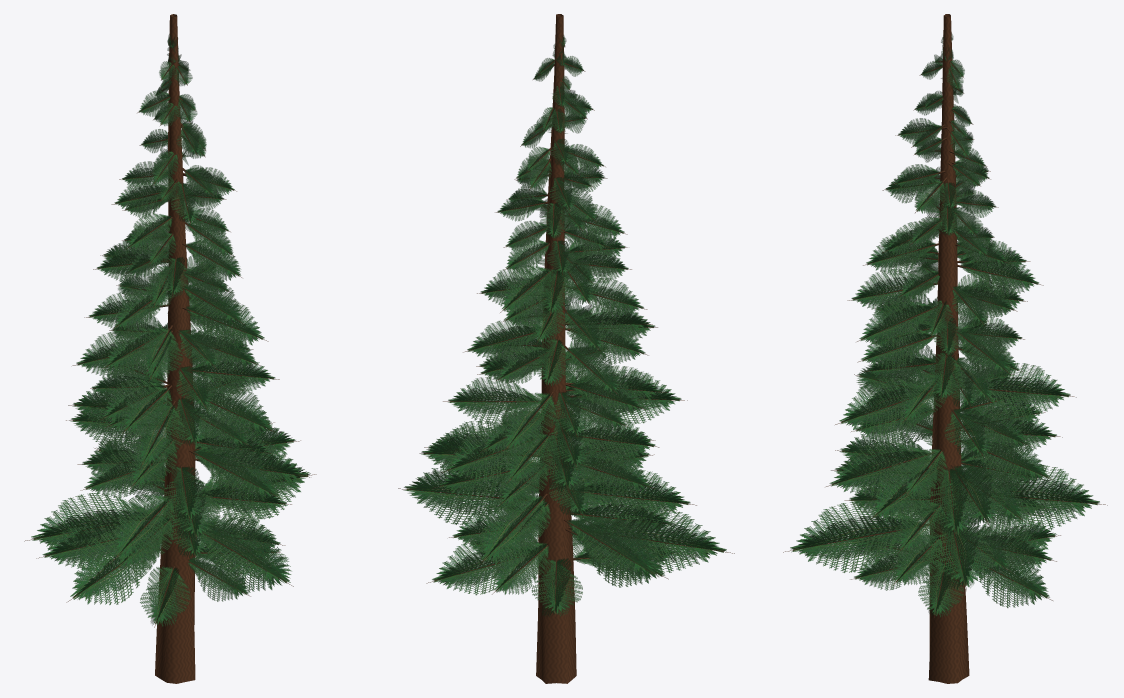
Rendered from pacific-redwood-wide.glb.
The picture shows the model from 3 angles, left to right: view 1: azimuth 30°, elevation 25°; view 2: azimuth 150°, elevation 25°; view 3: azimuth 270°, elevation 25°; orthographic projection.
Parts seen in each view (by area): view 1: Redwood needle cards, Redwood ridged bark; view 2: Redwood needle cards, Redwood ridged bark; view 3: Redwood needle cards, Redwood ridged bark.
Boxes of the visible parts, x1,y1,x2,y2 form: Redwood needle cards: [31, 34, 310, 626]; Redwood ridged bark: [24, 14, 316, 683]; Redwood needle cards: [403, 35, 726, 616]; Redwood ridged bark: [398, 14, 734, 683]; Redwood needle cards: [790, 34, 1099, 617]; Redwood ridged bark: [783, 14, 1107, 683].
Bounding box in the file's own units: 12.51 × 25 × 11.68.
Materials: 2 (2 with a texture image).
